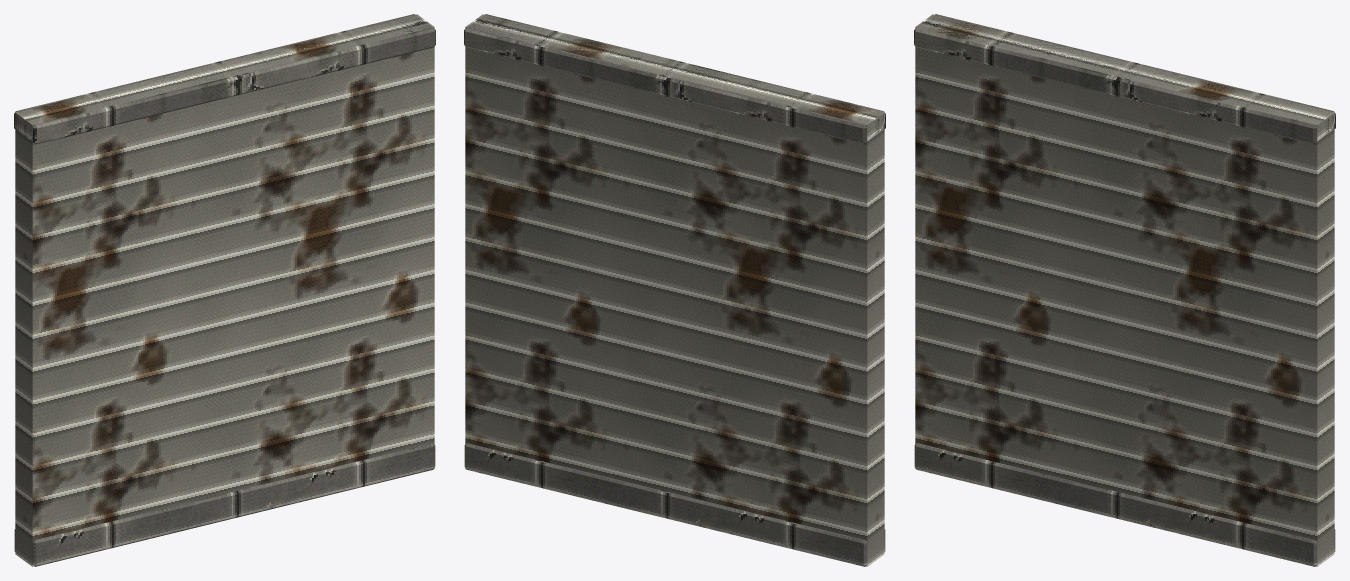
File: wall_siding_white.glb
3 renders of one model, left to right at view 1: azimuth 30°, elevation 25°; view 2: azimuth 150°, elevation 25°; view 3: azimuth 330°, elevation 25°, orthographic.
Visible parts, largest first — view 1: wall_siding_white_mesh; view 2: wall_siding_white_mesh; view 3: wall_siding_white_mesh.
Boxes of the visible parts, bbox=[...] form: wall_siding_white_mesh: bbox=[14, 14, 435, 566]; wall_siding_white_mesh: bbox=[464, 14, 885, 566]; wall_siding_white_mesh: bbox=[914, 14, 1335, 566].
Size of what is drawn, in the model's own units: 4 by 4.2 by 0.38.
2 materials, 2 textured.
